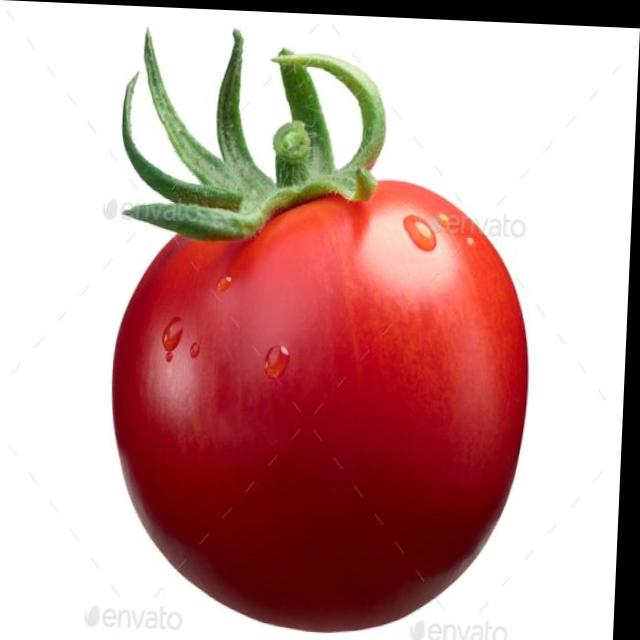kirmizi: (98, 88, 547, 637)
